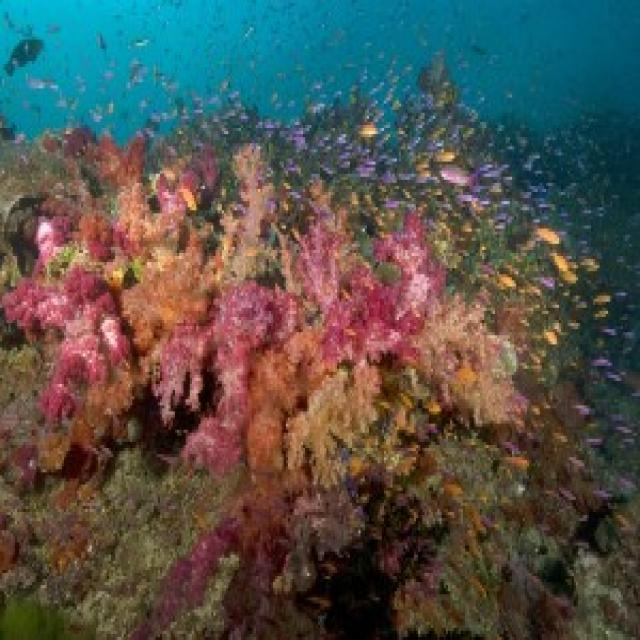Healthy: (1, 71, 596, 638)
